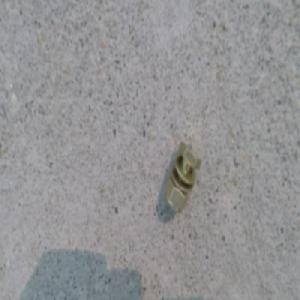BoltNutSet: (165, 140, 203, 212)
